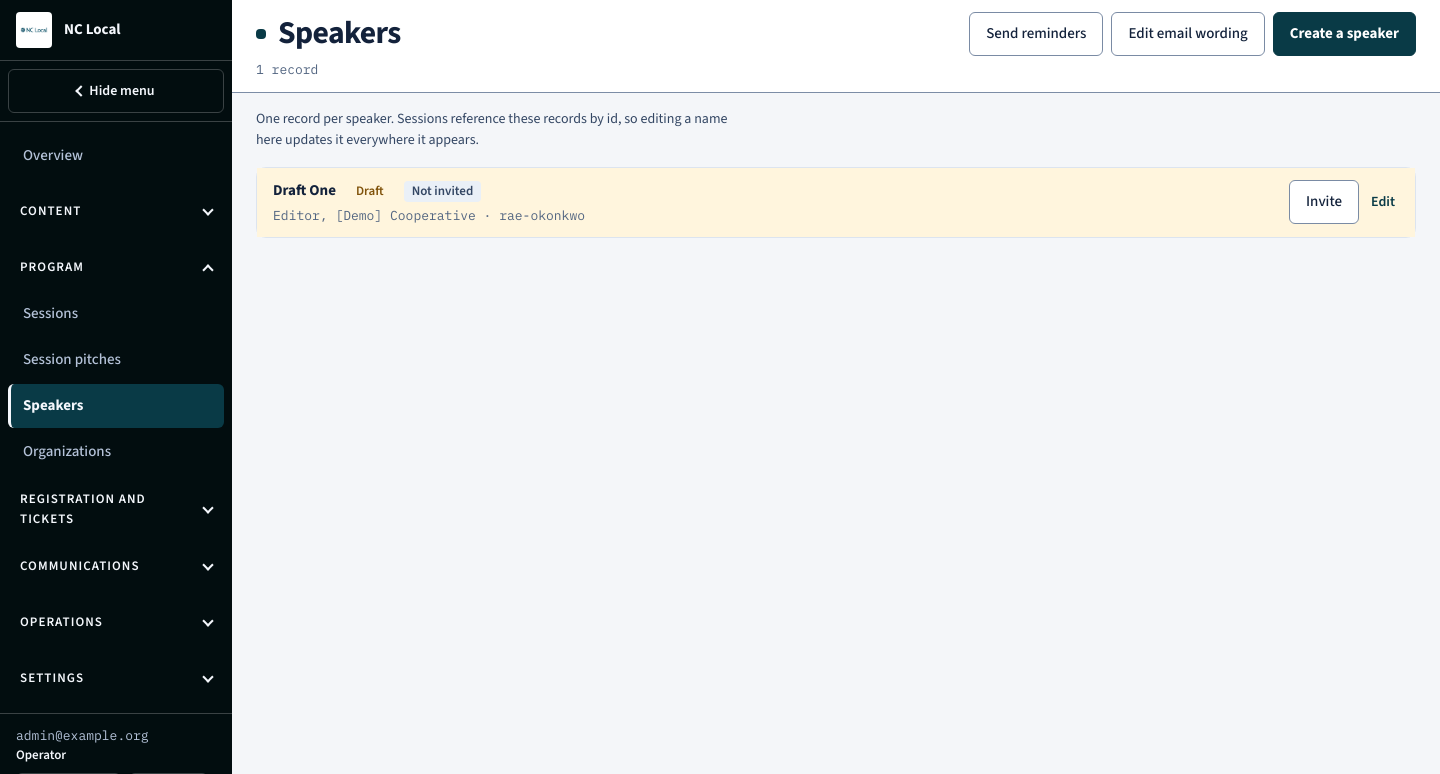
invite actions › posts sendSpeakerInvite with the speaker id and confirms
Click the button "Invite": (1324, 202) [1289,180,1359,224]
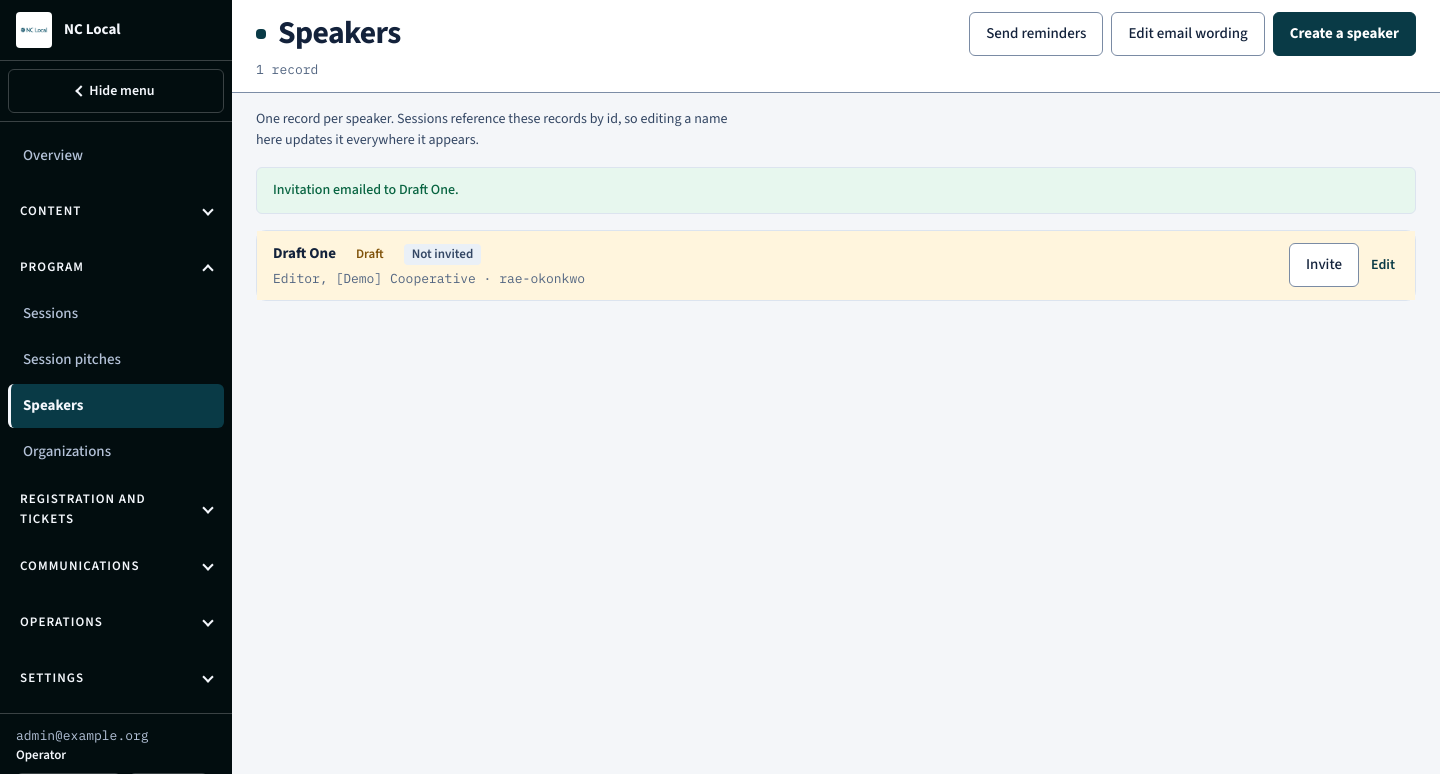
Check: the text "Invitation emailed to Draft One." is shown, box [256,166,1416,214]
